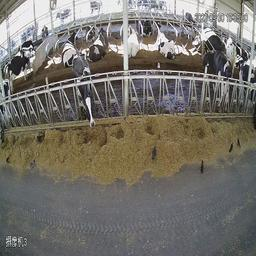cow: (194, 47, 230, 107), (71, 52, 96, 131), (6, 46, 37, 91), (192, 28, 222, 67), (155, 22, 176, 61), (89, 26, 107, 63), (62, 31, 78, 68), (127, 24, 141, 59)
